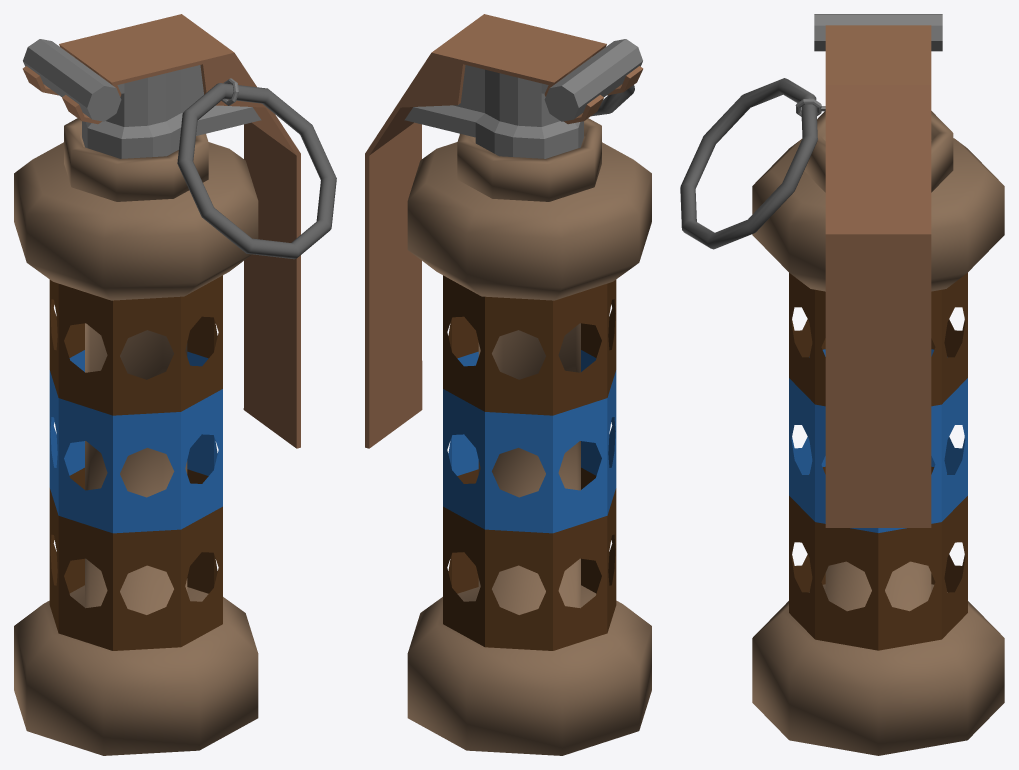
The model's file is Flash.fbx.
3 views of the same model, side by side, from view 1: azimuth 30°, elevation 25°; view 2: azimuth 150°, elevation 25°; view 3: azimuth 270°, elevation 25° (orthographic).
Parts seen in each view (by area): view 1: Flash - Main.001; view 2: Flash - Main.001; view 3: Flash - Main.001.
Part boxes in pixels (bbox=[...]): Flash - Main.001: bbox=[14, 14, 336, 755]; Flash - Main.001: bbox=[365, 14, 651, 755]; Flash - Main.001: bbox=[680, 14, 1004, 755].
Bounding box in the file's own units: 57.68 × 146 × 65.49.
